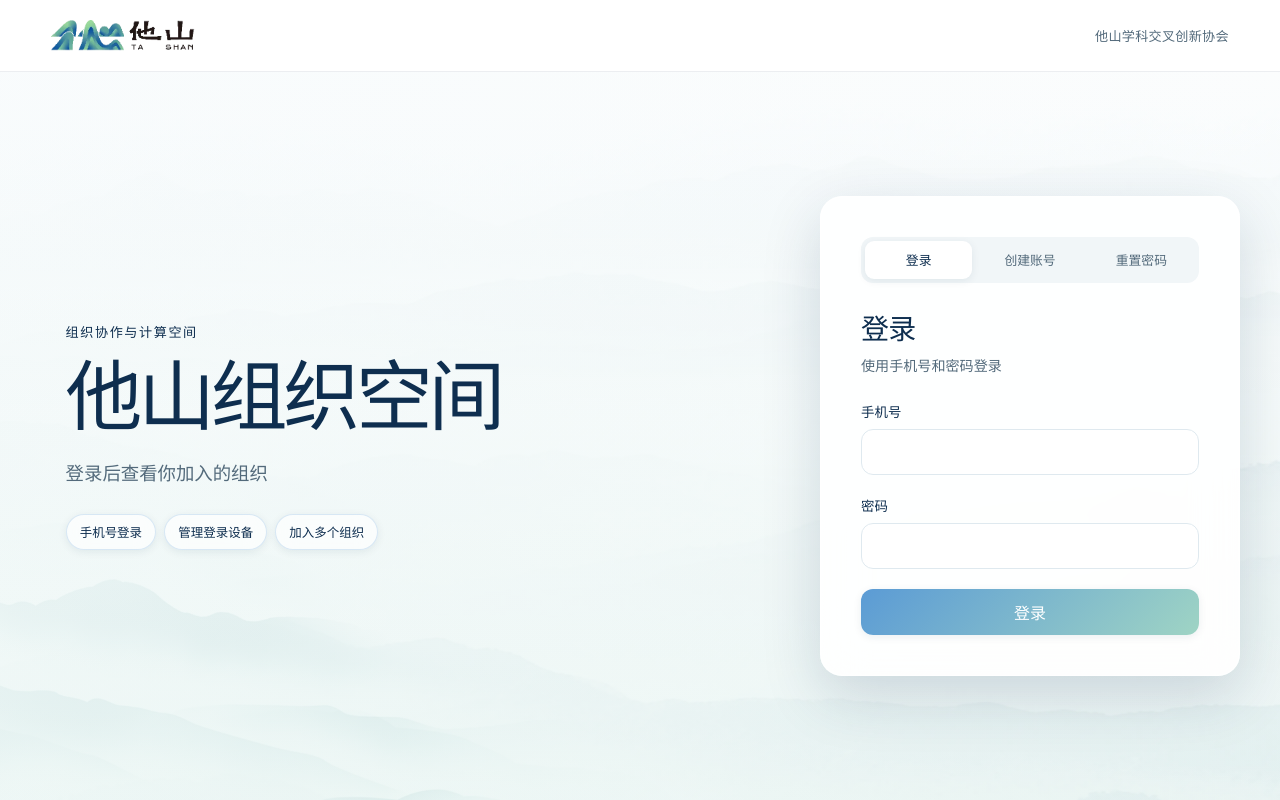
AccessPanel › starts resend countdown only after verification API success
The image size is (1280, 800).
Click the tab "创建账号": [1030, 260] box [976,241,1084,279]
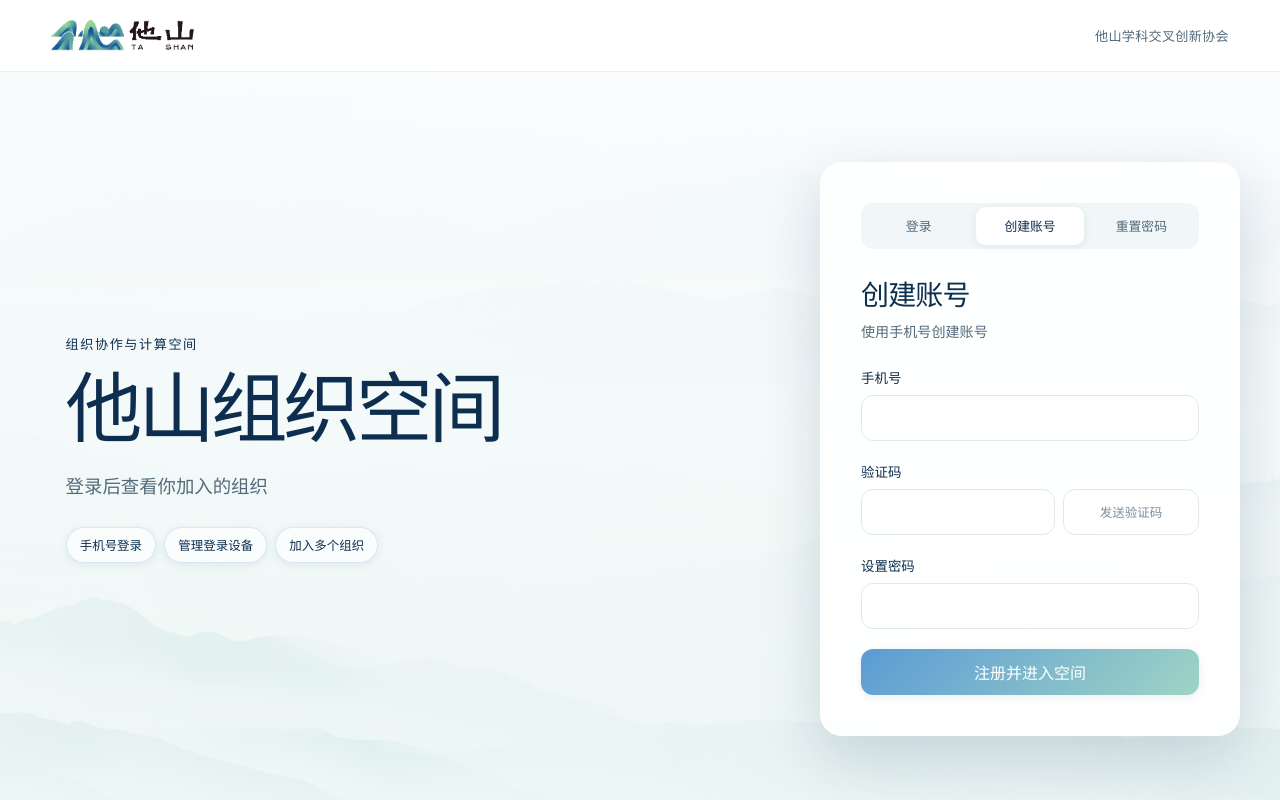
In the field labelled "手机号": [1030, 418] box [861,395,1199,441], type "13800138000"
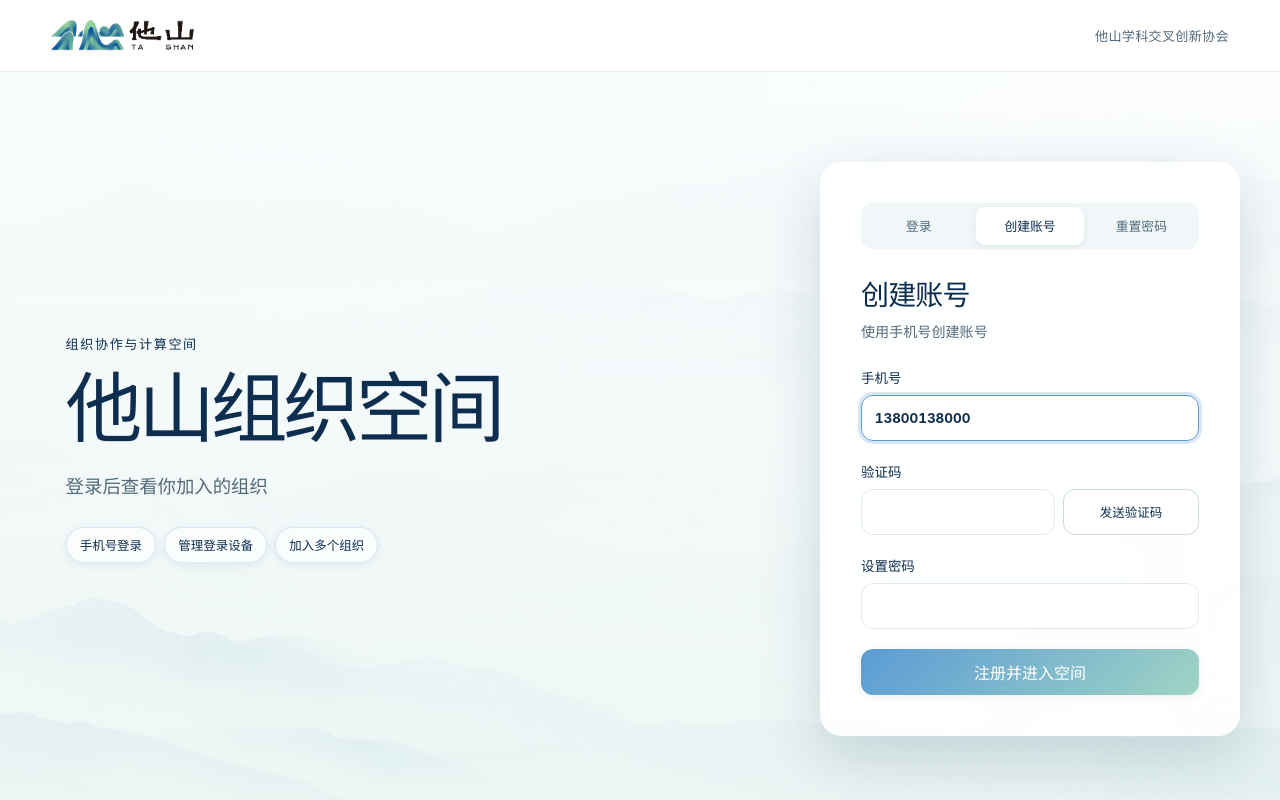
Click the button "发送验证码": [1131, 512] box [1063,489,1199,535]
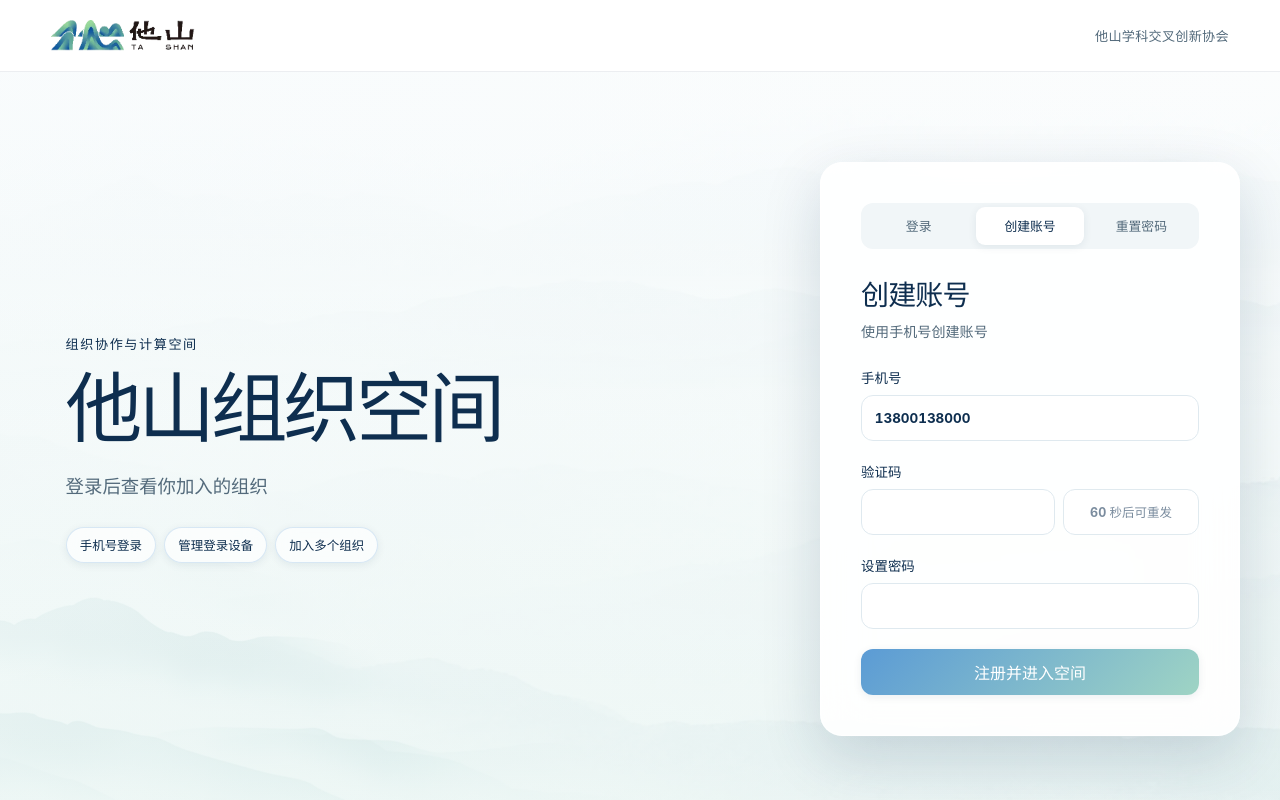
expect the button "60 秒后可重发" is disabled: met, box [1063,489,1199,535]
